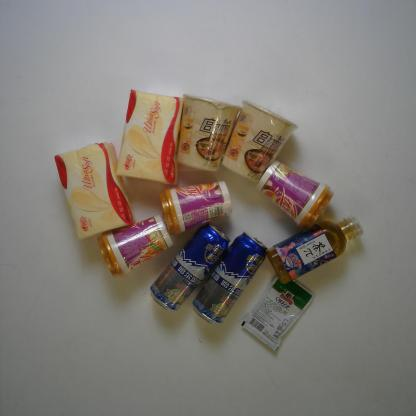Alcohol: (148, 222, 232, 314), (191, 230, 269, 326)
Drink: (265, 214, 365, 286)
Instant Drink: (254, 158, 336, 232), (95, 213, 175, 279), (156, 178, 235, 236)
Instant Noodles: (219, 97, 300, 185), (175, 91, 243, 174)
Seasoner: (240, 274, 317, 352)
Tissue: (53, 140, 138, 242), (115, 88, 185, 186)
